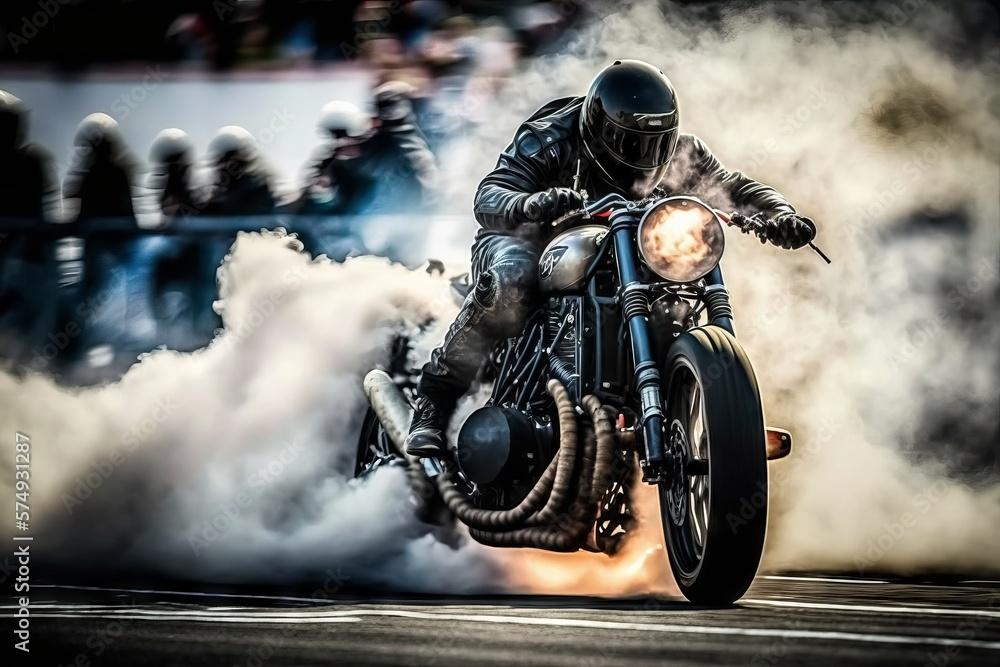helmet: (577, 57, 682, 204)
